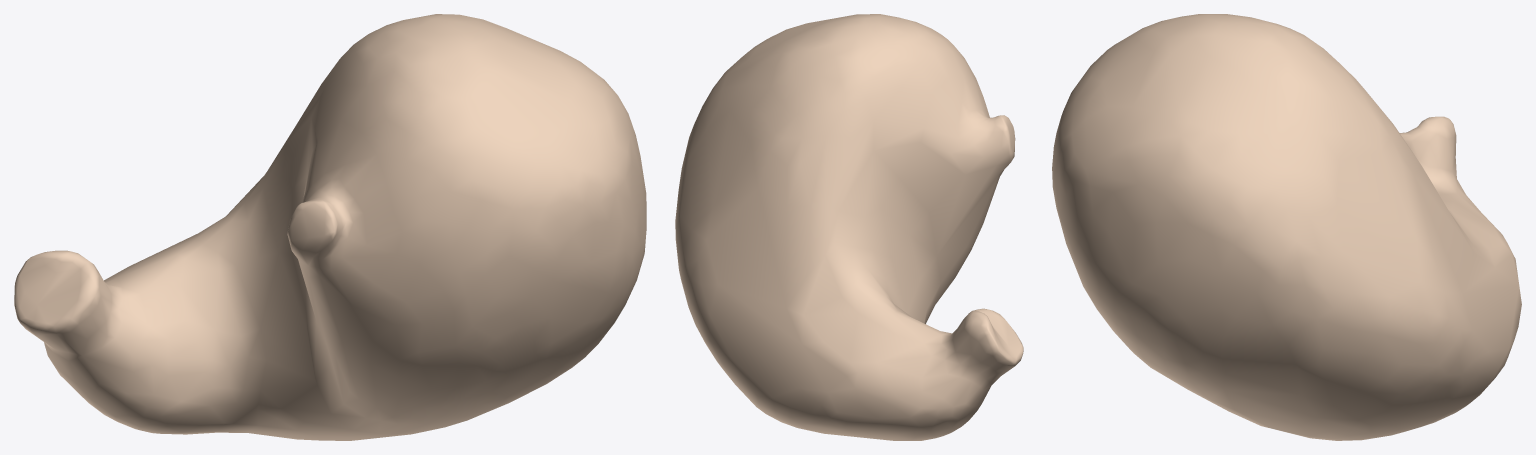
Rendered from atlas_stomach.glb.
3 renders of one model, left to right at view 1: azimuth 30°, elevation 25°; view 2: azimuth 150°, elevation 25°; view 3: azimuth 270°, elevation 25°, orthographic. The views are drawn at different scales.
Parts seen in each view (by area): view 1: stomach; view 2: stomach; view 3: stomach.
Boxes of the visible parts, left/top/right/bottom form: stomach: left=14, top=14, right=646, bottom=440; stomach: left=675, top=14, right=1023, bottom=440; stomach: left=1052, top=14, right=1521, bottom=440.
Bounding box in the file's own units: 4406362 × 3699020 × 3834034.
